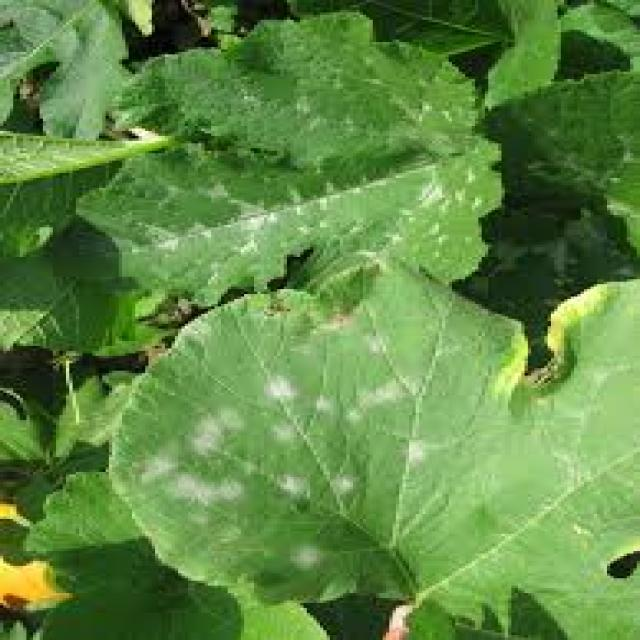powdery-mildew: (260, 368, 434, 487), (169, 168, 340, 256), (150, 397, 248, 513)
